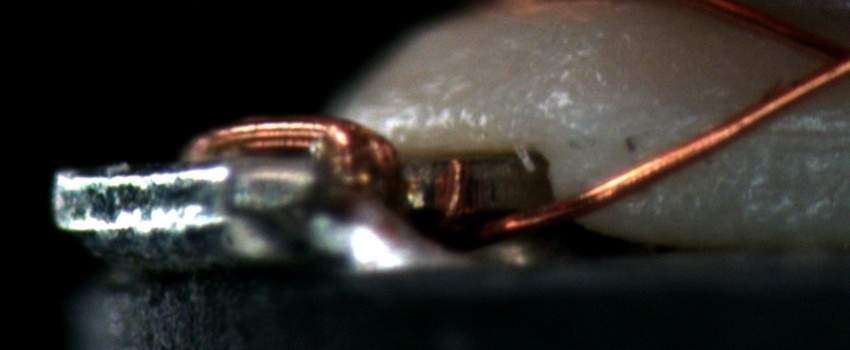CL: (799, 25, 848, 92)
DL: (743, 103, 849, 164)
TE: (167, 104, 470, 231)
